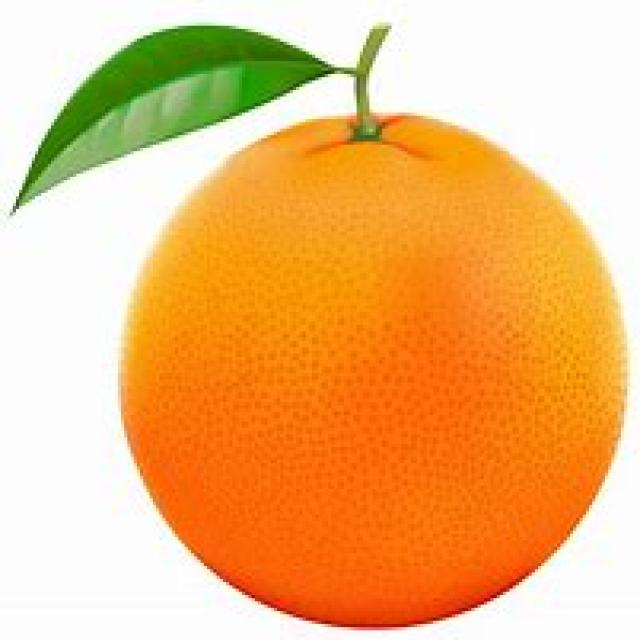orange: (117, 109, 628, 624)
